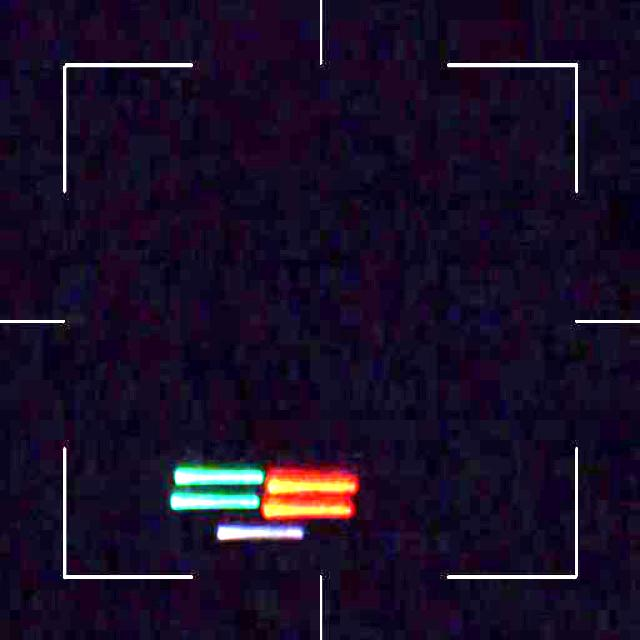bird: (169, 461, 360, 546)
